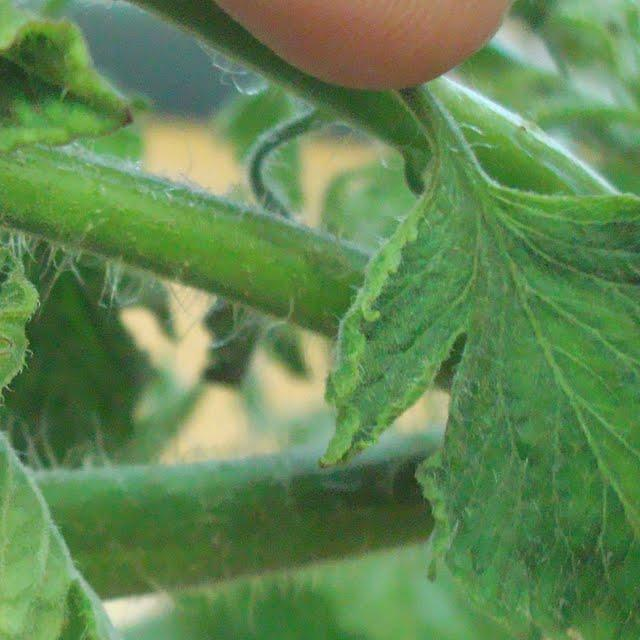Tomato leaf mosaic virus: (313, 163, 640, 640), (0, 95, 245, 640)
